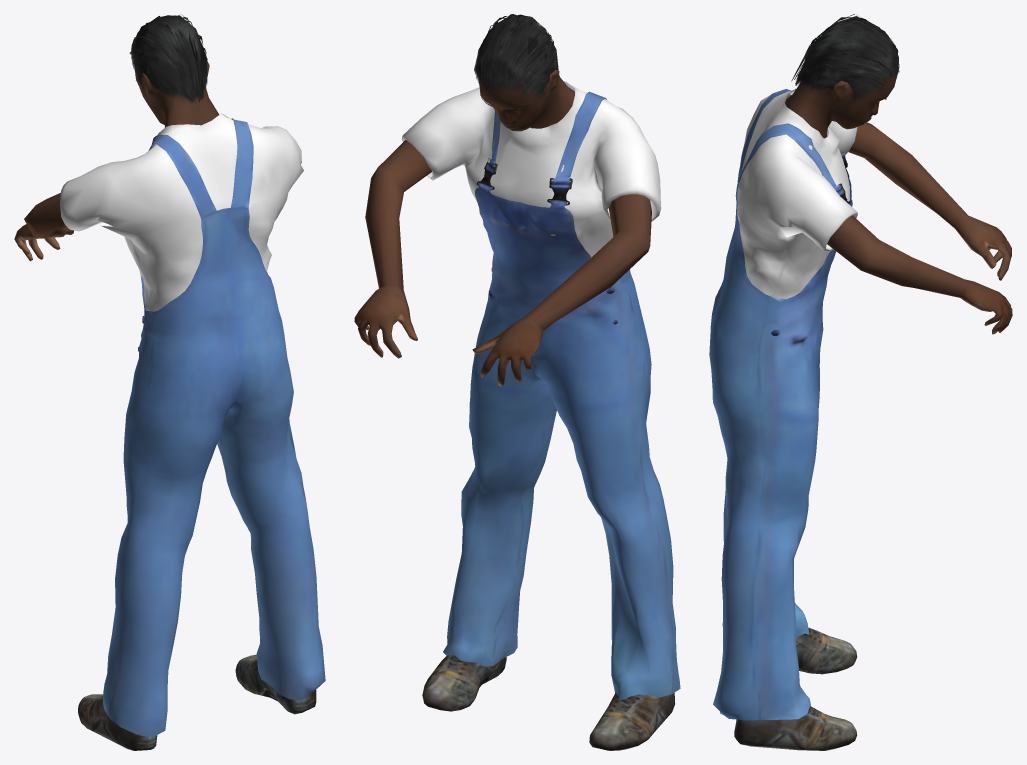
File: mechanic_overalls_working.glb
3 views of the same model, side by side, from view 1: azimuth 30°, elevation 25°; view 2: azimuth 150°, elevation 25°; view 3: azimuth 270°, elevation 25° (orthographic). The views are drawn at different scales.
Visible parts, largest first — view 1: Human_atlas; view 2: Human_atlas; view 3: Human_atlas.
Part boxes in pixels (bbox=[...]): Human_atlas: bbox=[14, 15, 325, 750]; Human_atlas: bbox=[354, 14, 680, 750]; Human_atlas: bbox=[709, 14, 1012, 750].
Size of the model in its own units: 0.6769 by 1.66 by 0.6646.
1 material, 1 textured.
